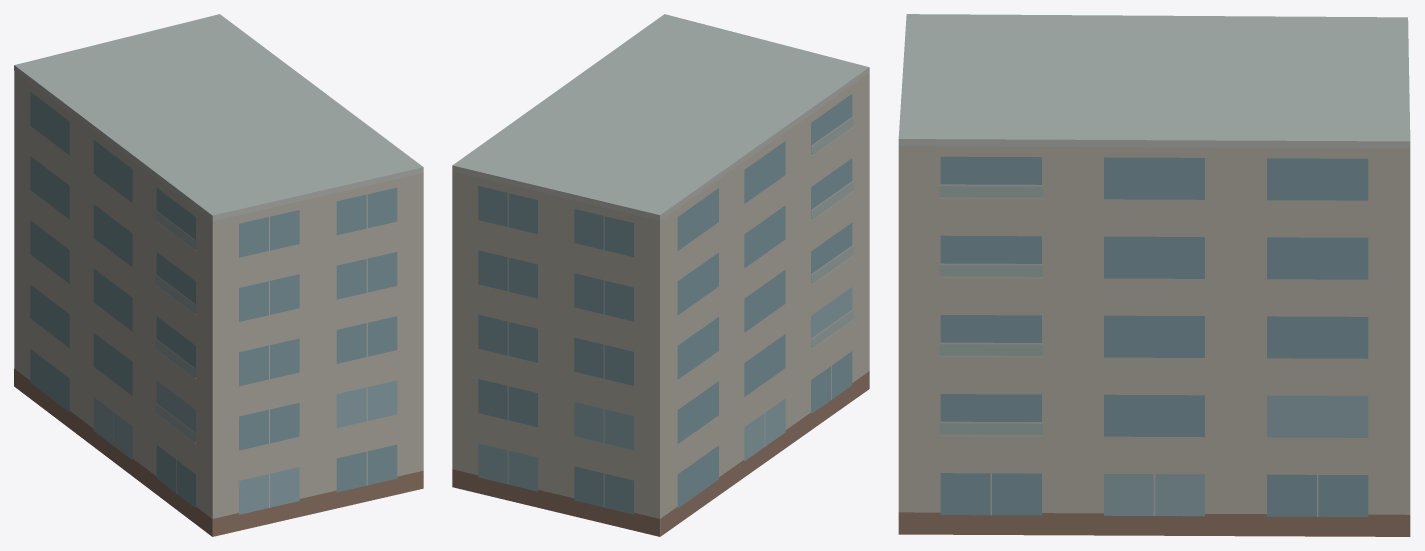
Rendered from survey-upis-32816687.glb.
3 renders of one model, left to right at view 1: azimuth 30°, elevation 25°; view 2: azimuth 150°, elevation 25°; view 3: azimuth 270°, elevation 25°, orthographic. The views are drawn at different scales.
Parts seen in each view (by area): view 1: survey-upis-32816687.tmp; view 2: survey-upis-32816687.tmp; view 3: survey-upis-32816687.tmp.
Boxes of the visible parts, bbox=[...] form: survey-upis-32816687.tmp: bbox=[14, 14, 423, 536]; survey-upis-32816687.tmp: bbox=[452, 14, 869, 536]; survey-upis-32816687.tmp: bbox=[898, 14, 1410, 536].
Bounding box in the file's own units: 9.49 × 13.7 × 16.08.
